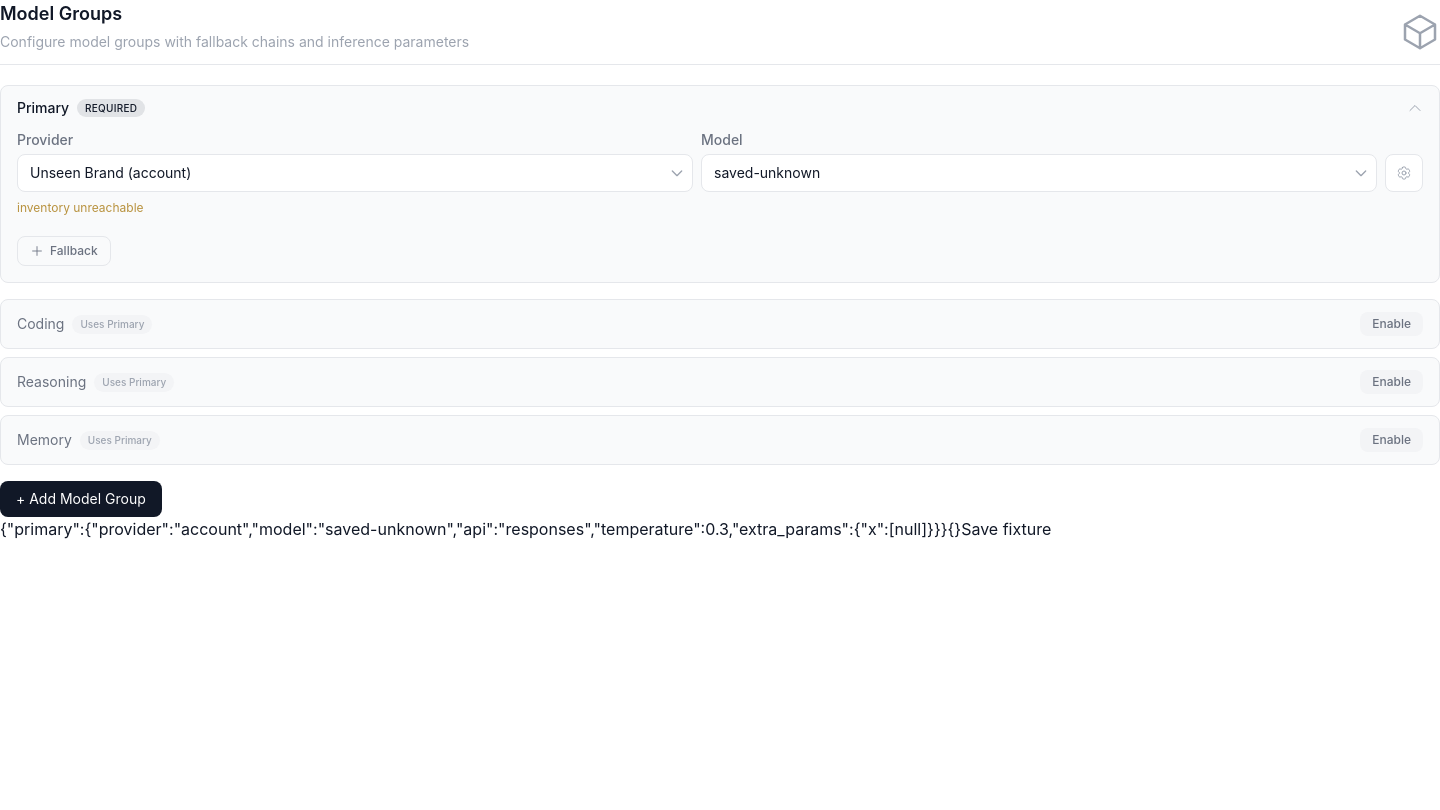
Scenario: retains saved IDs and settings when discovery fails and when catalogs have no exact match
The width and height of the screenshot is (1440, 810).
Expected: the text "inventory unreachable" is shown, [17,200,144,215]
Expected: the dropdown labelled "Model" holds "saved-unknown", [701,154,1377,192]
What coordinates should you click on to do the following:
click the button named "Primary parameters"
I would click on:
 (1404, 173)
Its box is [1385,154,1423,192].
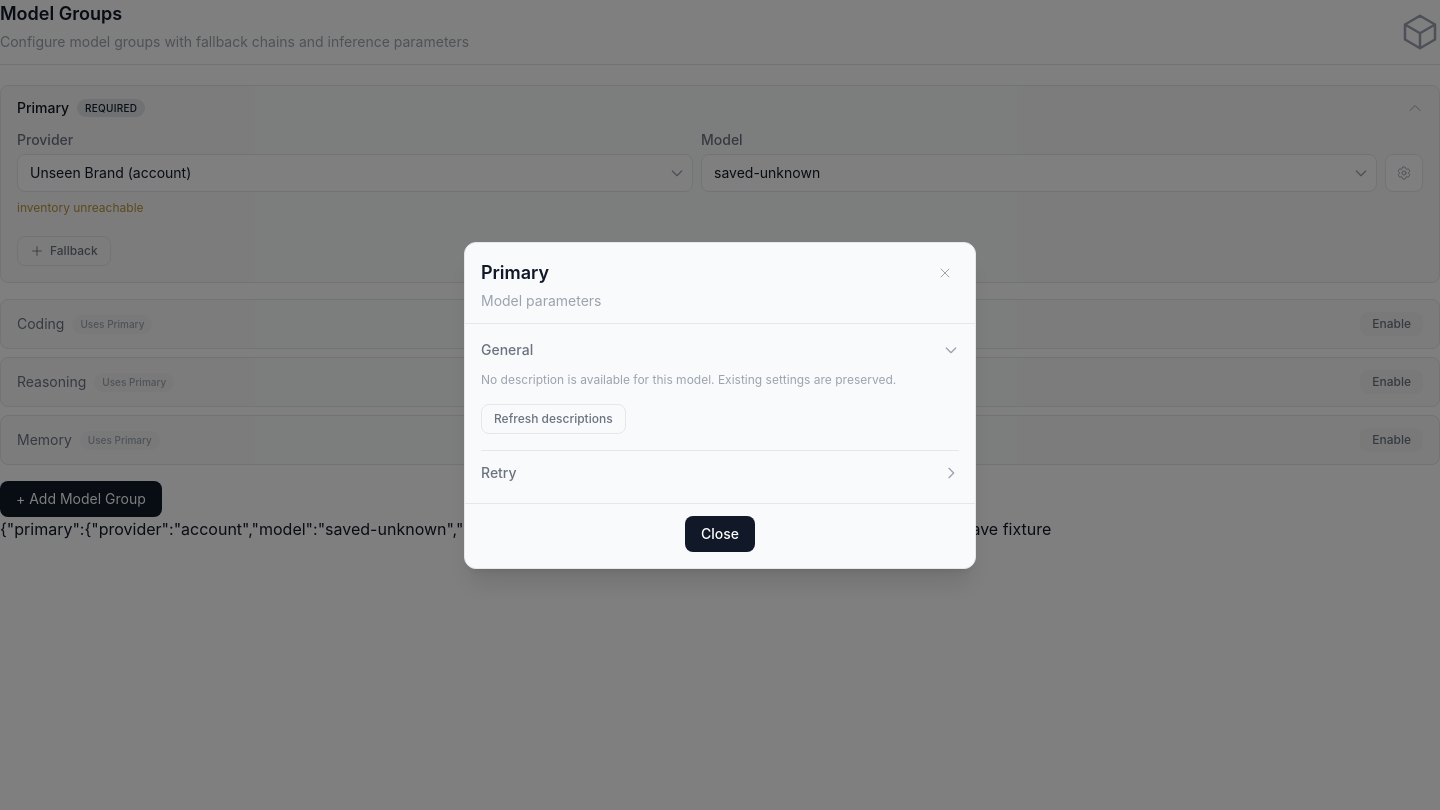
What coordinates should you click on to do the following:
click the button "Refresh descriptions"
I would click on:
 (553, 418)
Its box is [481,404,626,434].
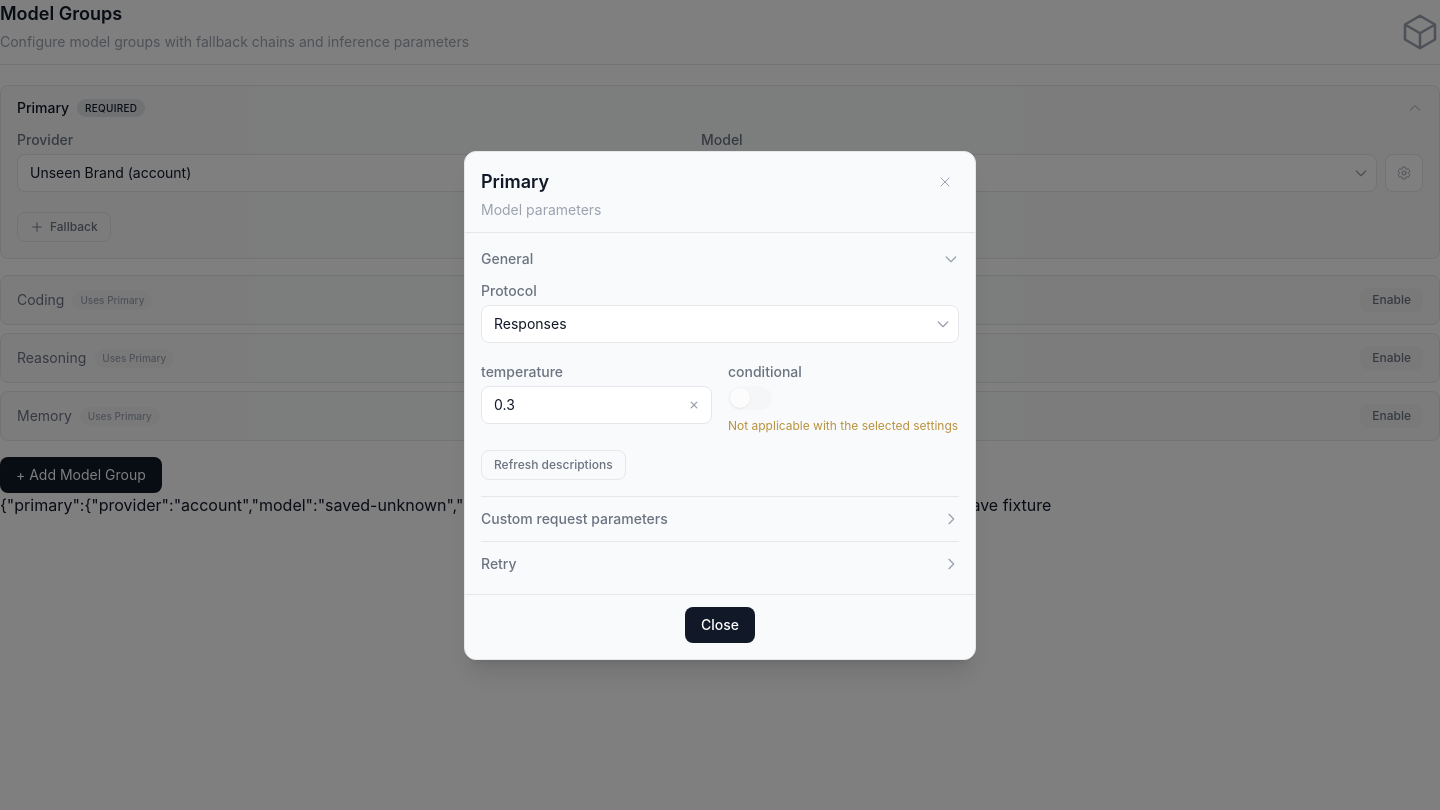
Result: the number field labelled "temperature" holds "0.3" at [481,386,712,424]
